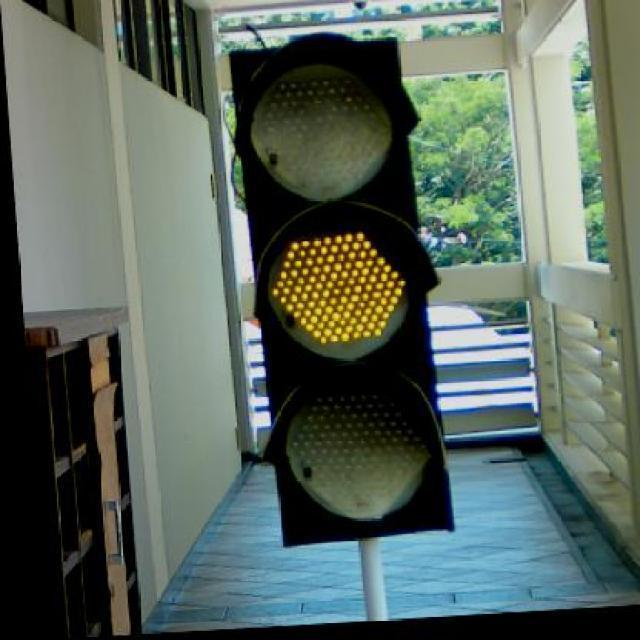yellow_light: (229, 50, 454, 533)
